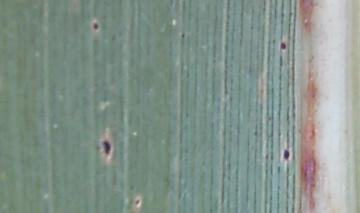tarspot: (102, 141, 111, 156), (283, 149, 290, 160), (279, 41, 287, 50), (135, 199, 141, 207), (93, 22, 98, 31), (180, 32, 186, 38)
